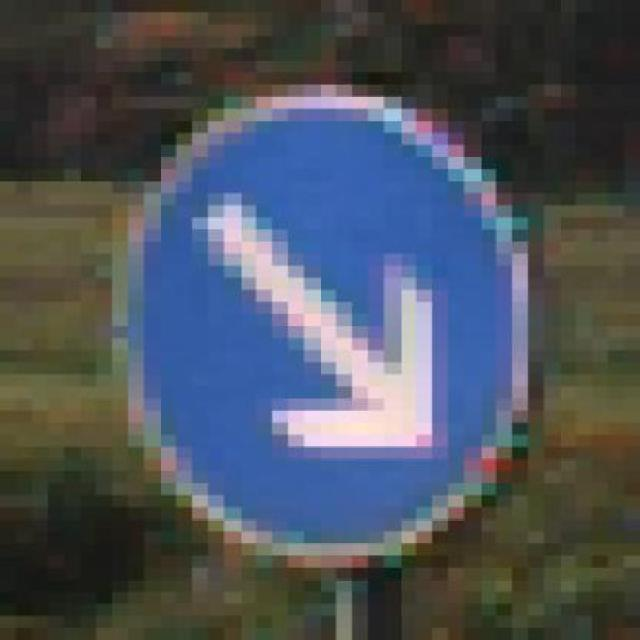Keep-Right: (64, 72, 576, 580)
